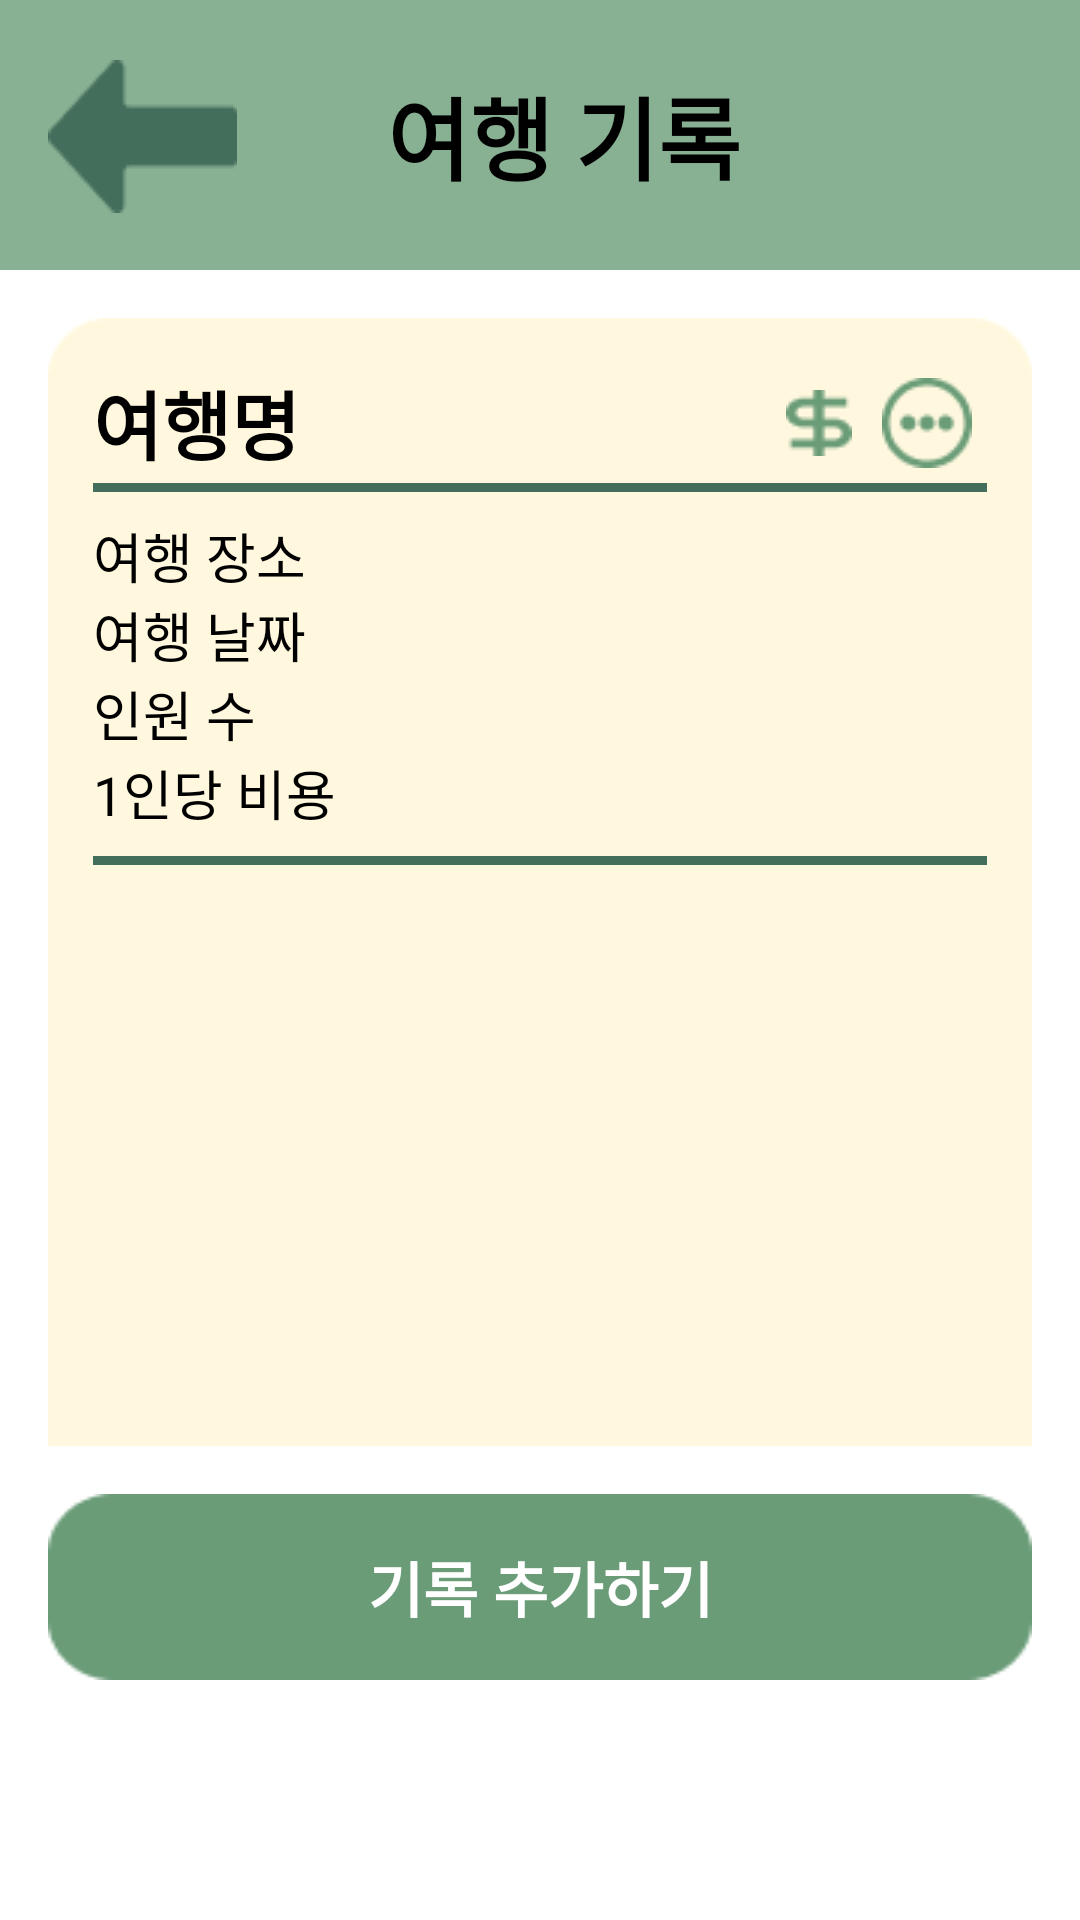

Where icons sit on this 1080×1920 app screen, as (x1, y1, x2, y2):
detail: (882, 378, 972, 468)
뒤로가기 버튼: (48, 60, 237, 213)
